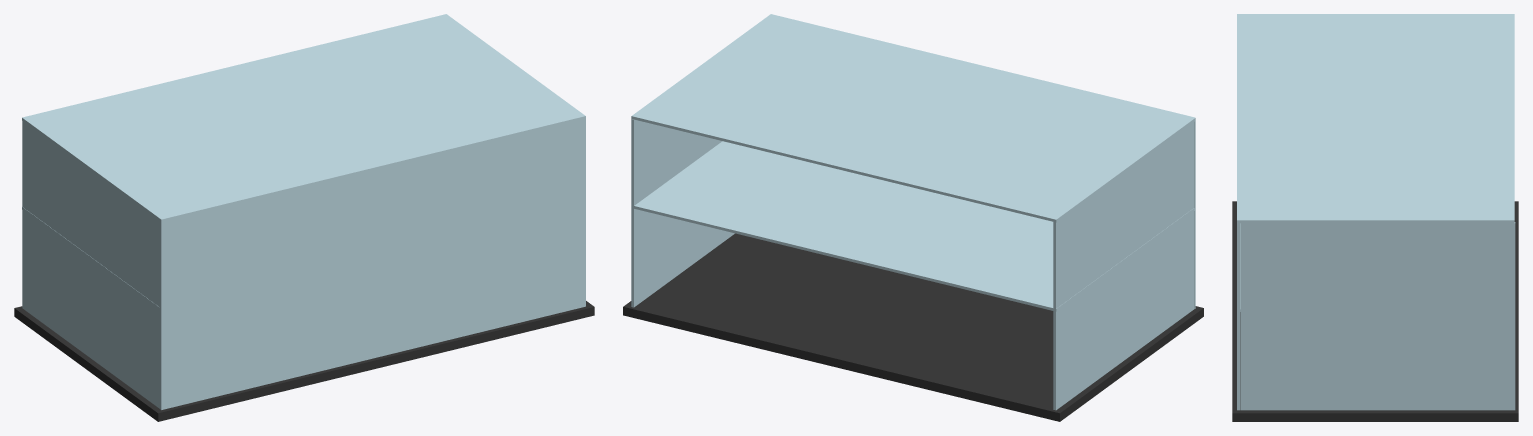
File: VP_Bakery_GlassBox.FBX
3 views of the same model, side by side, from view 1: azimuth 30°, elevation 25°; view 2: azimuth 150°, elevation 25°; view 3: azimuth 270°, elevation 25° (orthographic).
Visible parts, largest first — view 1: VP_Bakery_GlassBox; view 2: VP_Bakery_GlassBox; view 3: VP_Bakery_GlassBox.
Boxes of the visible parts, x1,y1,x2,y2 form: VP_Bakery_GlassBox: (14, 14, 594, 421); VP_Bakery_GlassBox: (623, 14, 1203, 421); VP_Bakery_GlassBox: (1232, 14, 1518, 421).
Size of the model in its own units: 82.25 by 46.93 by 35.88.
